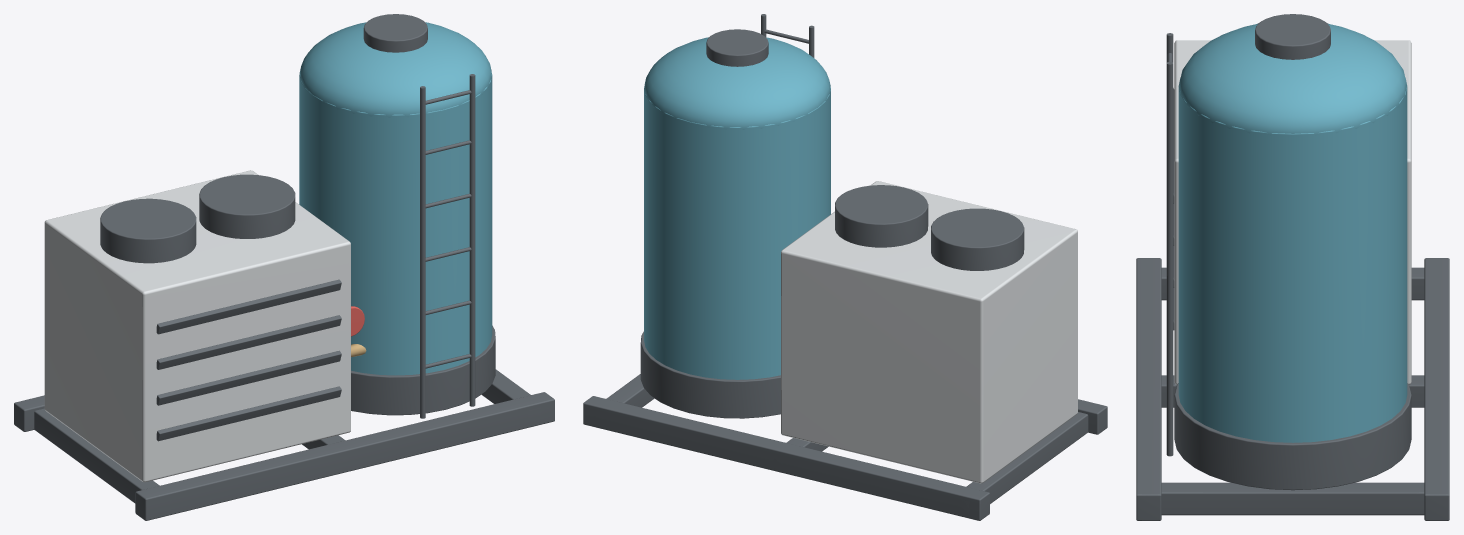
File: rooftop_hvac_watertank_rig_v9.glb
3 views of the same model, side by side, from view 1: azimuth 30°, elevation 25°; view 2: azimuth 150°, elevation 25°; view 3: azimuth 270°, elevation 25° (orthographic). The views are drawn at different scales.
Visible parts, largest first — view 1: GEO_DualChillerCabinet, GEO_RooftopWaterTankBody, GEO_SteelSkidBeam, GEO_WaterTankDomeCap, GEO_WaterTankPedestal, GEO_TopExhaustShroud, GEO_TopExhaustShroud.001, GEO_SteelSkidCross, GEO_InspectionLadderRail.001, GEO_TankTopManhole, GEO_FrontIntakeLouver, GEO_FrontIntakeLouver.003 (+5 smaller); view 2: GEO_DualChillerCabinet, GEO_RooftopWaterTankBody, GEO_SteelSkidBeam.001, GEO_WaterTankDomeCap, GEO_WaterTankPedestal, GEO_TopExhaustShroud.001, GEO_TopExhaustShroud, GEO_SteelSkidCross, GEO_TankTopManhole, GEO_SteelSkidCross.002, GEO_SteelSkidBeam; view 3: GEO_RooftopWaterTankBody, GEO_WaterTankDomeCap, GEO_WaterTankPedestal, GEO_SteelSkidCross.002, GEO_SteelSkidBeam, GEO_SteelSkidBeam.001, GEO_DualChillerCabinet, GEO_InspectionLadderRail.001, GEO_TankTopManhole, GEO_SteelSkidCross.001, GEO_SteelSkidCross.
Part boxes in pixels (left/top/right/bottom): GEO_DualChillerCabinet: left=44, top=170, right=350, bottom=482; GEO_RooftopWaterTankBody: left=299, top=71, right=492, bottom=375; GEO_SteelSkidBeam: left=135, top=392, right=554, bottom=520; GEO_WaterTankDomeCap: left=299, top=22, right=491, bottom=117; GEO_WaterTankPedestal: left=351, top=325, right=495, bottom=415; GEO_TopExhaustShroud: left=100, top=198, right=196, bottom=263; GEO_TopExhaustShroud.001: left=199, top=174, right=295, bottom=238; GEO_SteelSkidCross: left=34, top=408, right=172, bottom=518; GEO_InspectionLadderRail.001: left=469, top=74, right=475, bottom=406; GEO_TankTopManhole: left=363, top=14, right=427, bottom=52; GEO_FrontIntakeLouver: left=156, top=386, right=341, bottom=441; GEO_FrontIntakeLouver.003: left=156, top=279, right=341, bottom=334; GEO_DualChillerCabinet: left=781, top=181, right=1077, bottom=483; GEO_RooftopWaterTankBody: left=644, top=86, right=830, bottom=379; GEO_SteelSkidBeam.001: left=583, top=396, right=989, bottom=520; GEO_WaterTankDomeCap: left=644, top=37, right=830, bottom=129; GEO_WaterTankPedestal: left=640, top=331, right=780, bottom=418; GEO_TopExhaustShroud.001: left=835, top=185, right=928, bottom=247; GEO_TopExhaustShroud: left=931, top=208, right=1024, bottom=270; GEO_SteelSkidCross: left=956, top=412, right=1088, bottom=518; GEO_TankTopManhole: left=706, top=29, right=768, bottom=66; GEO_SteelSkidCross.002: left=594, top=374, right=654, bottom=428; GEO_SteelSkidBeam: left=1078, top=399, right=1107, bottom=434; GEO_RooftopWaterTankBody: left=1178, top=78, right=1407, bottom=442; GEO_WaterTankDomeCap: left=1179, top=23, right=1406, bottom=135; GEO_WaterTankPedestal: left=1174, top=383, right=1411, bottom=490; GEO_SteelSkidCross.002: left=1161, top=482, right=1424, bottom=515; GEO_SteelSkidBeam: left=1136, top=258, right=1161, bottom=520; GEO_SteelSkidBeam.001: left=1424, top=258, right=1449, bottom=520; GEO_DualChillerCabinet: left=1174, top=40, right=1411, bottom=384; GEO_InspectionLadderRail.001: left=1166, top=61, right=1173, bottom=456; GEO_TankTopManhole: left=1255, top=14, right=1330, bottom=59; GEO_SteelSkidCross.001: left=1161, top=375, right=1424, bottom=407; GEO_SteelSkidCross: left=1161, top=267, right=1424, bottom=300.
Bounding box in the file's own units: 2.65 × 2.28 × 1.48.
